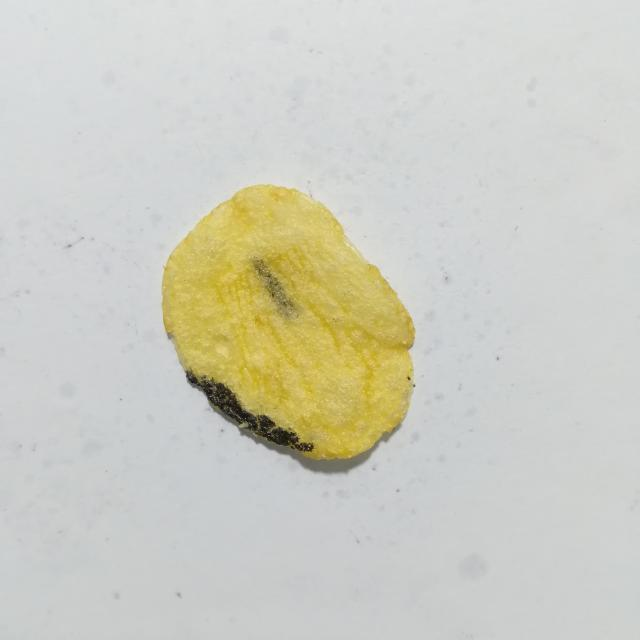chip: (162, 185, 415, 458)
damaged: (186, 371, 313, 451), (407, 376, 411, 381)
semi-damaged: (253, 256, 297, 318)
